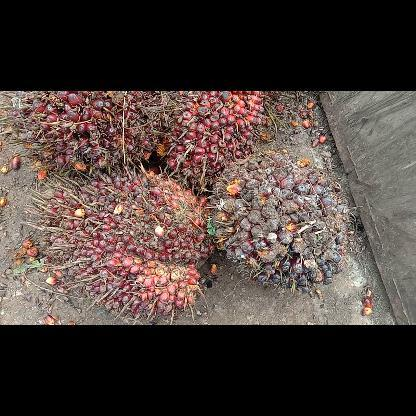Kurang masak: (204, 146, 356, 298)
TBS masak: (25, 162, 215, 324), (0, 91, 169, 178), (150, 91, 266, 190)
